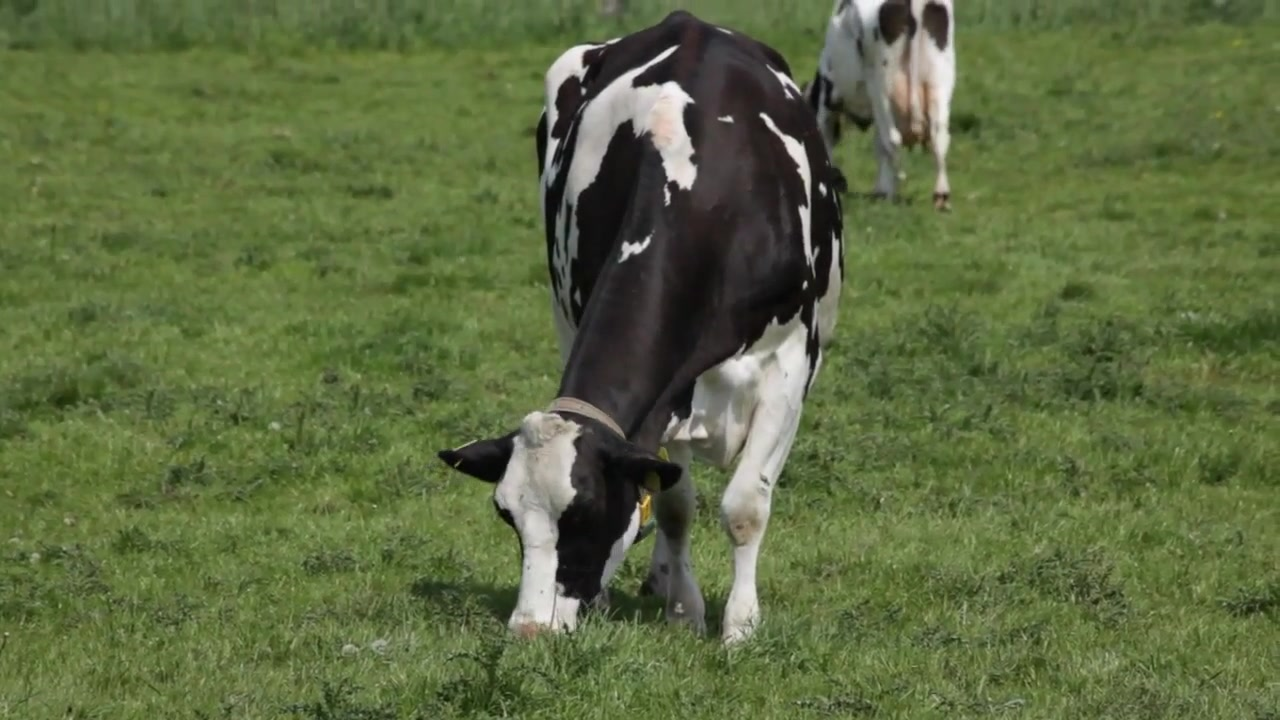cow: (439, 8, 849, 666)
